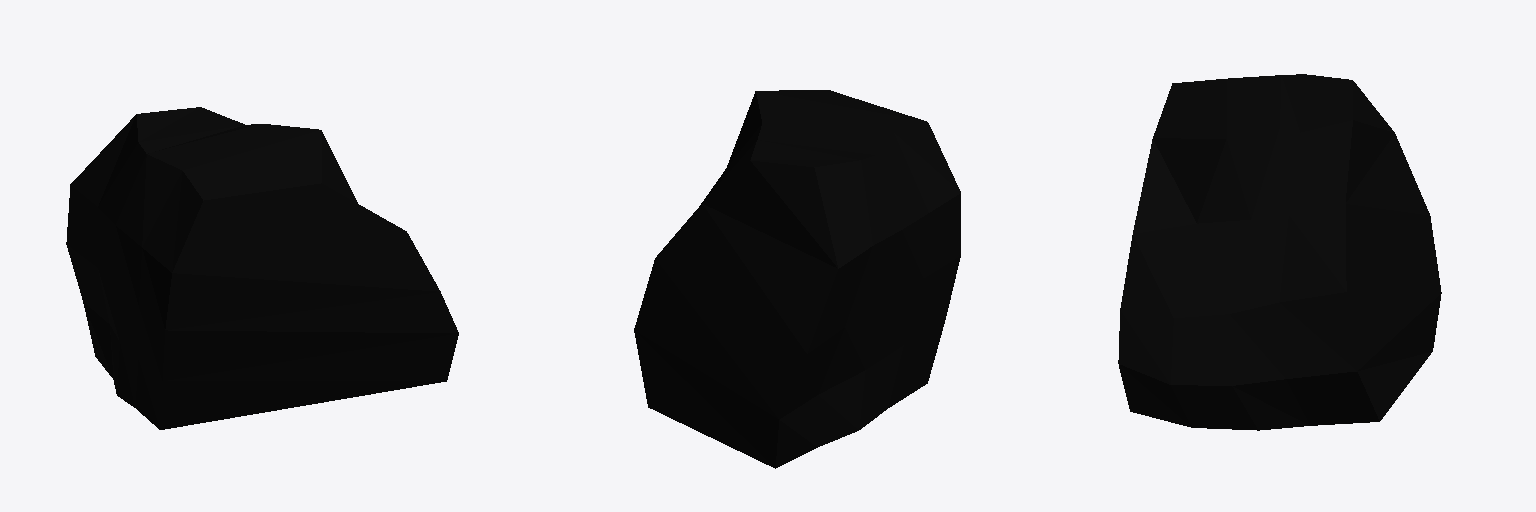
Rendered from rock.obj.
The picture shows the model from 3 angles: view 1: azimuth 30°, elevation 25°; view 2: azimuth 150°, elevation 25°; view 3: azimuth 270°, elevation 25°; orthographic projection.
Visible parts, largest first — view 1: Cube; view 2: Cube; view 3: Cube.
Boxes of the visible parts, <box> form: Cube: <box>66,107,458,429</box>; Cube: <box>634,90,960,468</box>; Cube: <box>1118,74,1441,430</box>.
Size of the model in its own units: 5.96 by 5.47 by 5.88.